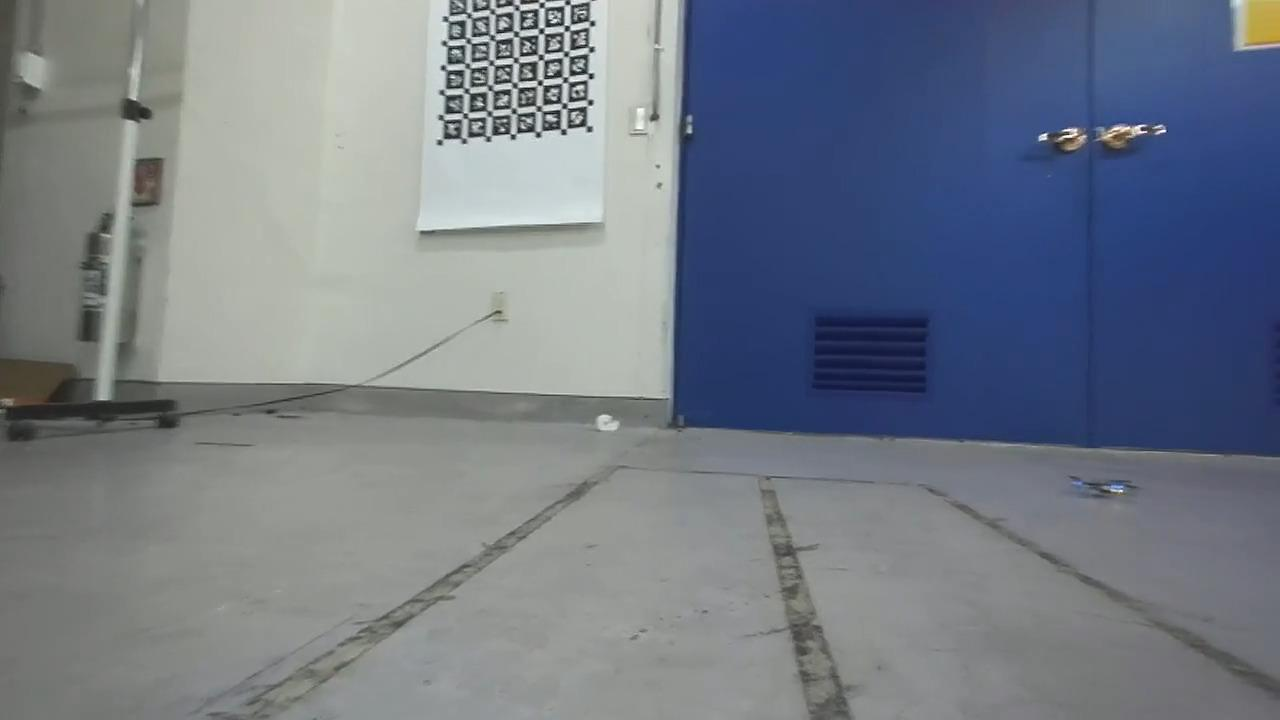crazyflie: (1056, 467, 1141, 503)
